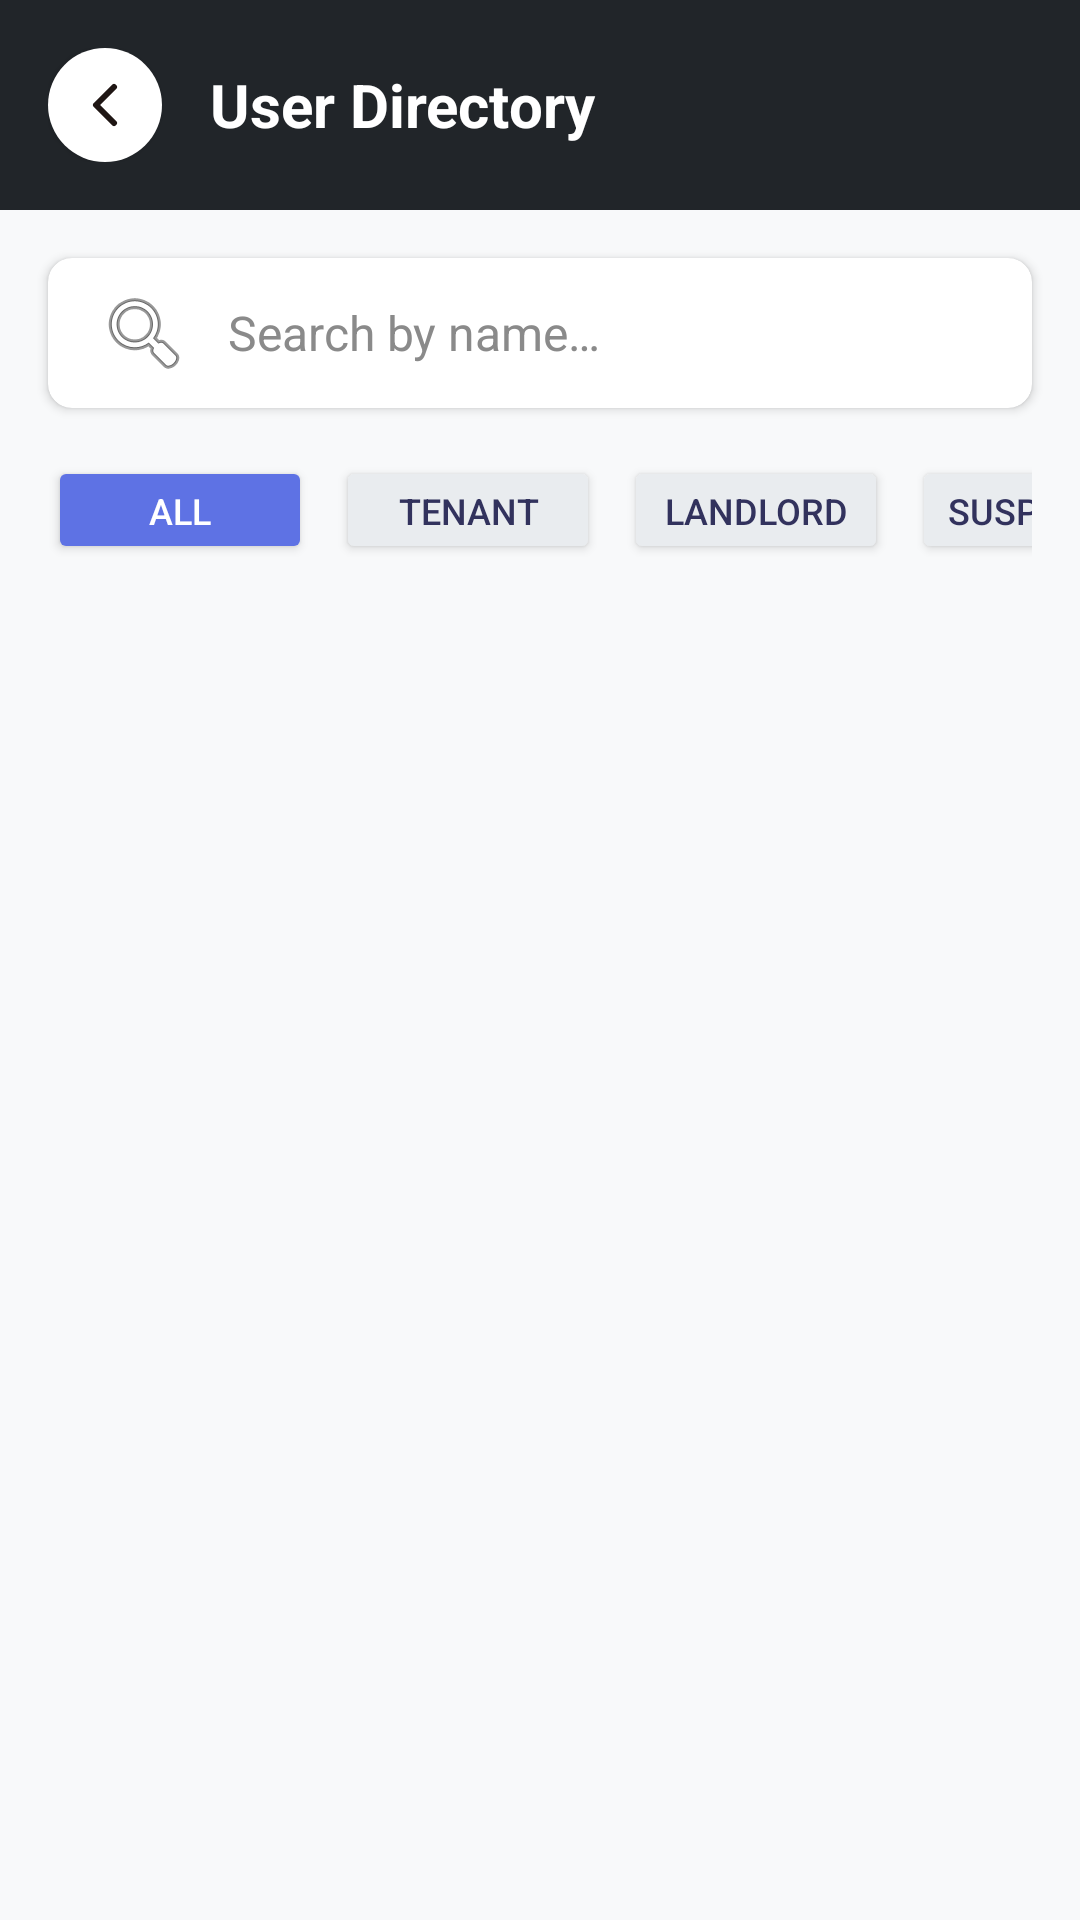

Icons on this 1080*1920 Android screen, each with the point to tap as [x,y]:
Navigate Back: [105,105]
